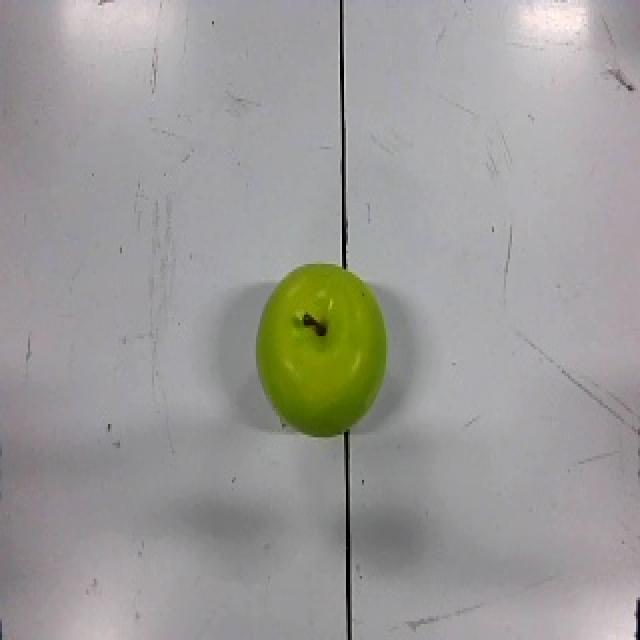apple: (254, 262, 389, 438)
